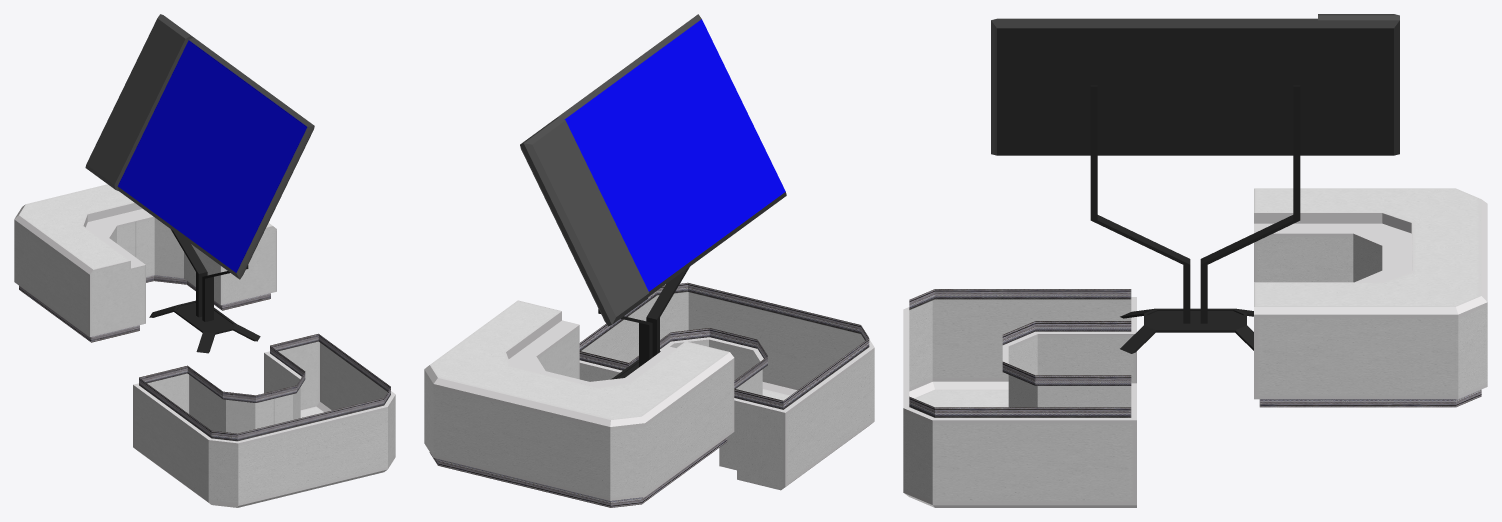
The model's file is Display.FBX.
3 renders of one model, left to right at view 1: azimuth 30°, elevation 25°; view 2: azimuth 150°, elevation 25°; view 3: azimuth 270°, elevation 25°, orthographic. The views are drawn at different scales.
Parts seen in each view (by area): view 1: Display, Base001, Base, Stand; view 2: Display, Base, Base001, Stand; view 3: Display, Base001, Base, Stand.
Boxes of the visible parts, box(x1,y1,x2,y2) form: Display: box(85, 14, 314, 279); Base001: box(133, 333, 395, 507); Base: box(14, 184, 276, 342); Stand: box(149, 229, 260, 353); Display: box(520, 14, 786, 326); Base: box(424, 300, 734, 507); Base001: box(579, 282, 874, 490); Stand: box(598, 267, 689, 379); Display: box(991, 14, 1399, 155); Base001: box(903, 289, 1136, 507); Base: box(1254, 188, 1487, 407); Stand: box(1090, 85, 1300, 353).
Bounding box in the file's own units: 50 × 85.72 × 100.
